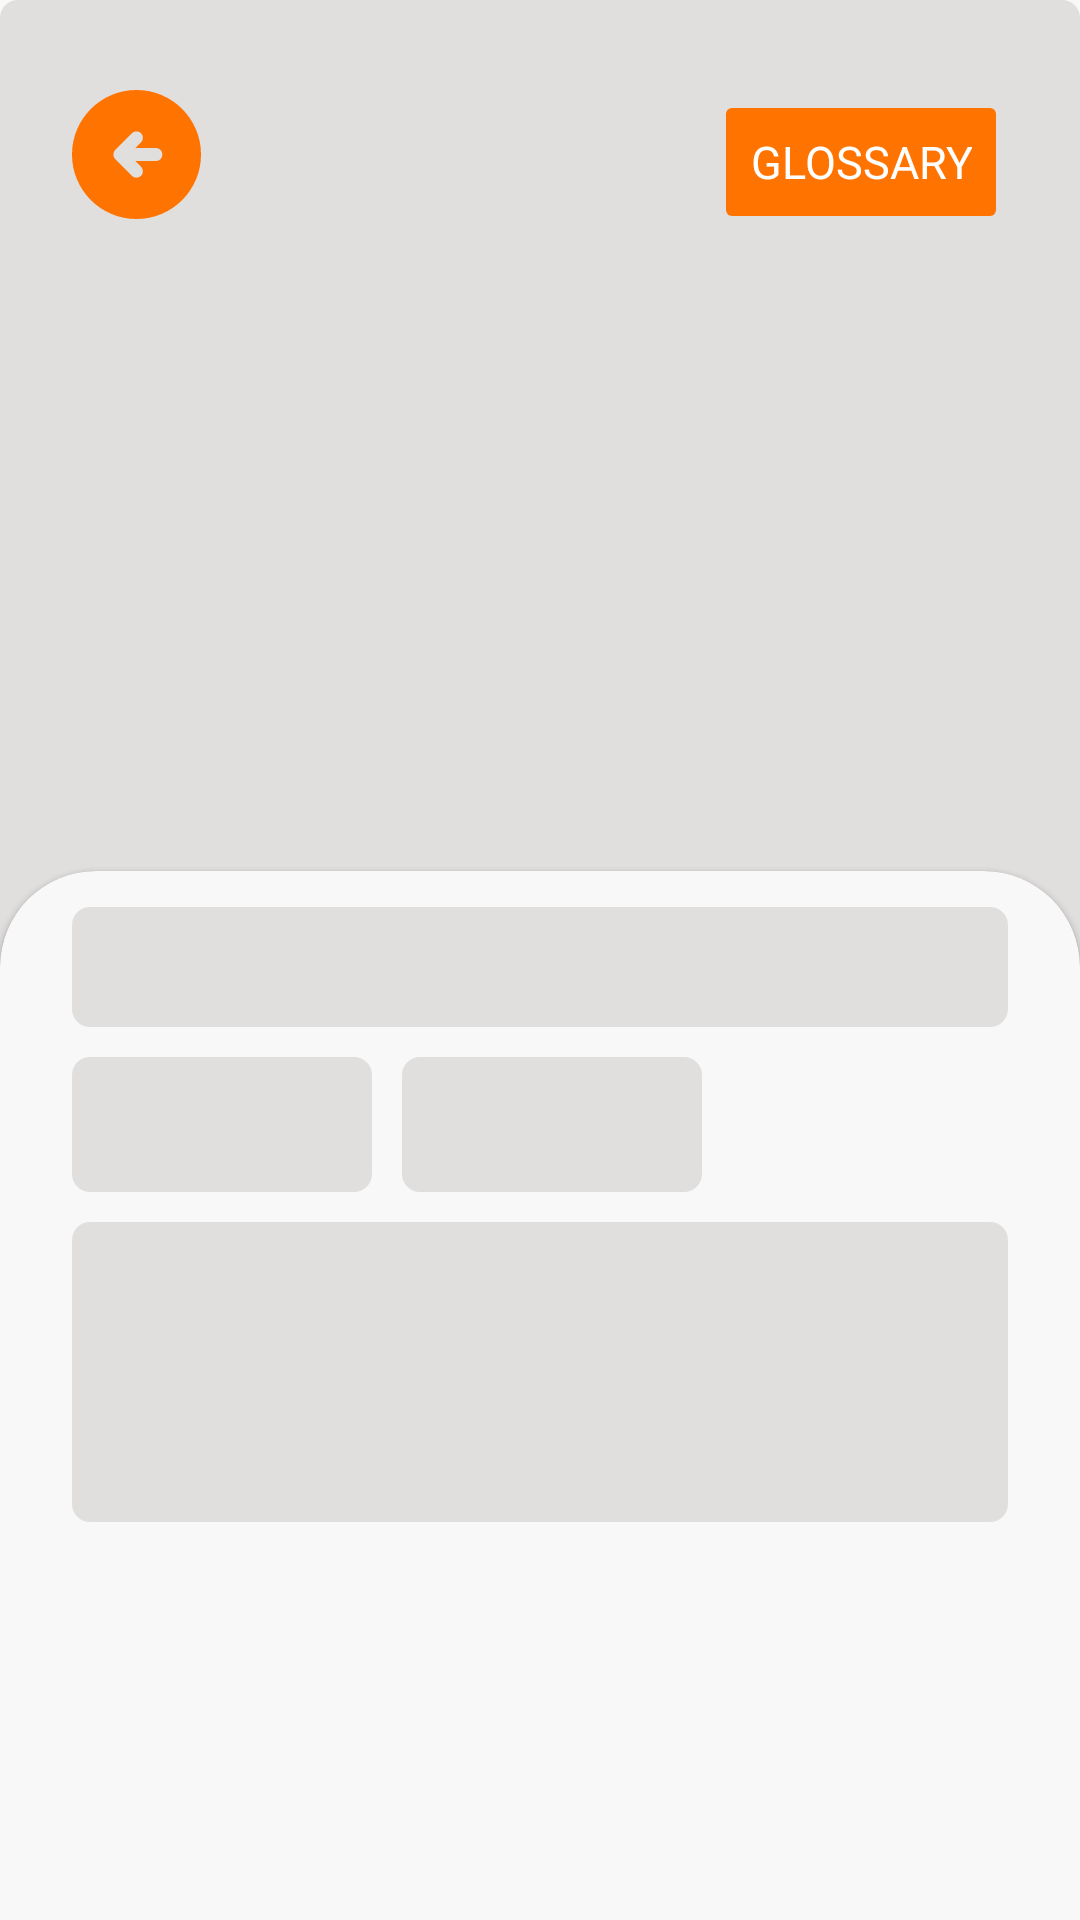

Icon click points for this 1080 x 1920 phone screenshot, format (x,y):
back: (136,154)
